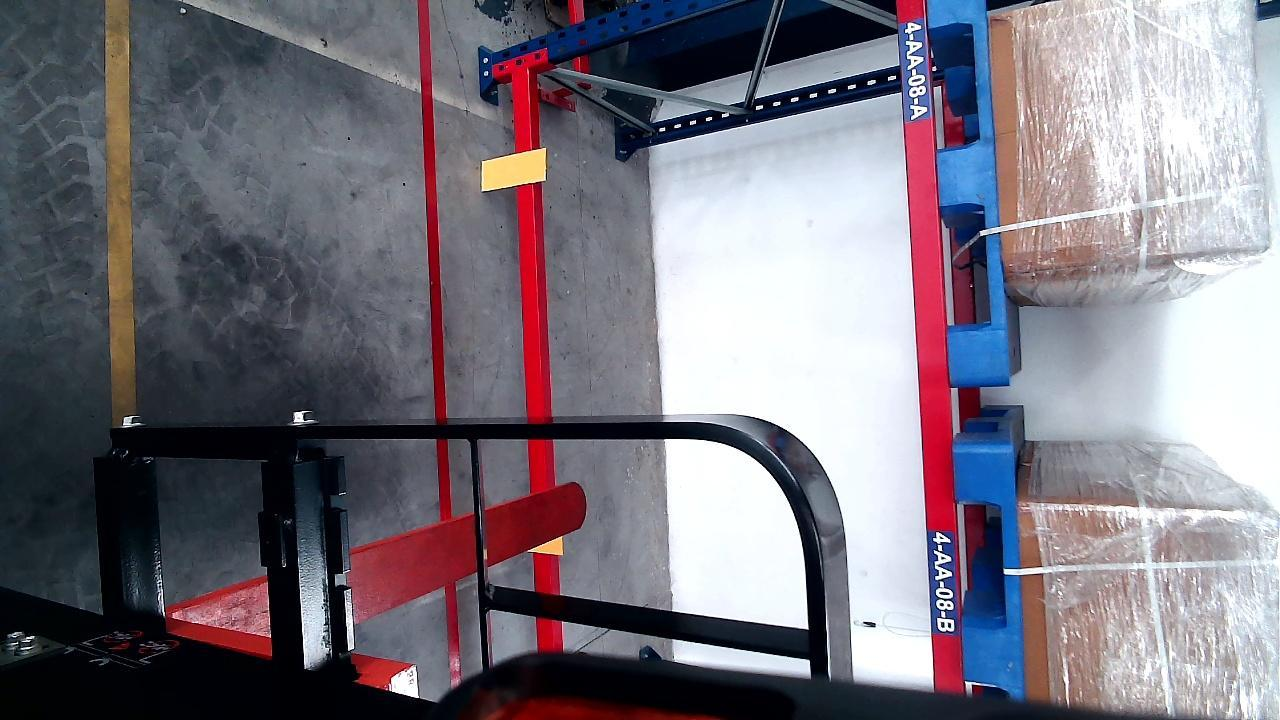red_line: (419, 2, 458, 686)
yellow_line: (106, 0, 135, 421)
